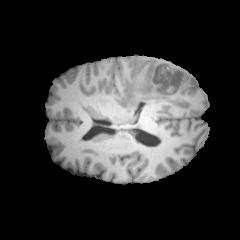glioma: (113, 61, 195, 112)
